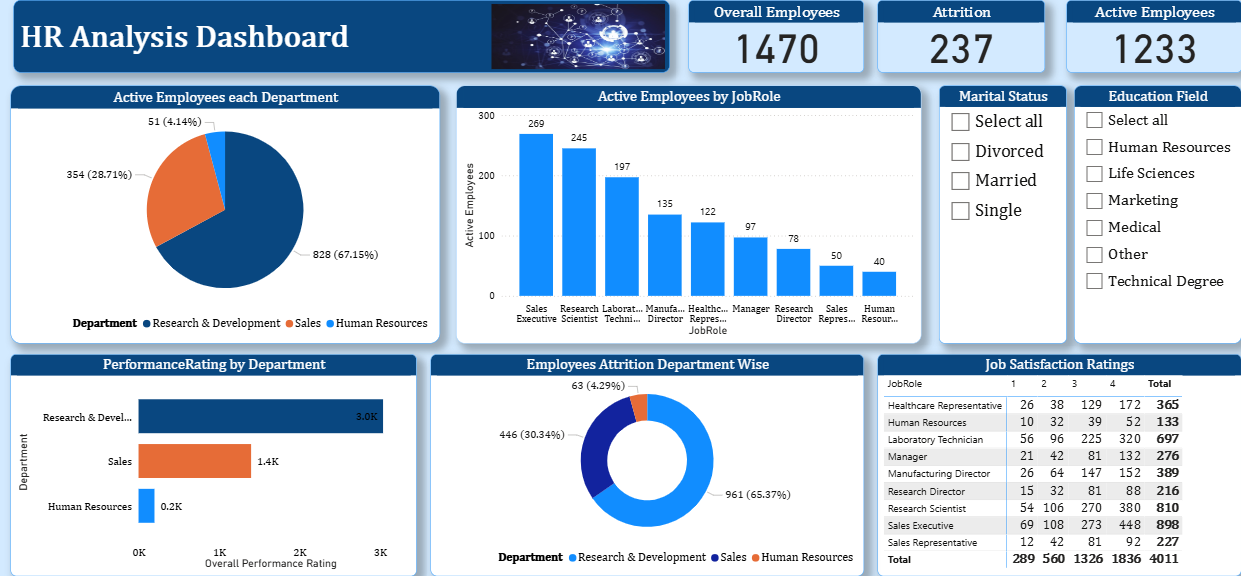

This screenshot's page, from the dashboard's own definition file:
{"tool":"powerbi","page":{"name":"Page 1","canvas":[1700,800],"ordinal":0},"visuals":[{"type":"card","title":"Overall Employees","fields":{"Values":["Sum(HR_Project_Power BI.EmployeeCount)"]},"box":[931.3,12.9,235.6,97.5],"z":0},{"type":"card","title":"Attrition","fields":{"Values":["Sum(HR_Project_Power BI.Attrition Count)"]},"box":[1185.3,12.9,224.5,97.5],"z":1000},{"type":"card","title":"Active Employees","fields":{"Values":["Measure.Active Employees"]},"box":[1437.5,12.9,235.6,97.5],"z":2000},{"type":"pieChart","title":"Active Employees each Department","fields":{"Category":["HR_Project_Power BI.Department"],"Y":["Measure.Active Employees"]},"box":[22.1,127,576.1,346],"z":3000},{"type":"columnChart","fields":{"Y":["Measure.Active Employees"],"Category":["HR_Project_Power BI.JobRole"]},"box":[618.4,127,623.9,346],"z":4000},{"type":"clusteredBarChart","title":" PerformanceRating by Department","fields":{"Category":["HR_Project_Power BI.Department"],"Y":["Sum(HR_Project_Power BI.PerformanceRating)"]},"box":[22.1,485.9,544.8,298.2],"z":5000},{"type":"pivotTable","title":"Job Satisfaction Ratings","fields":{"Rows":["HR_Project_Power BI.JobRole"],"Columns":["HR_Project_Power BI.JobSatisfaction"],"Values":["Sum(HR_Project_Power BI.JobSatisfaction)"]},"box":[1185.3,485.9,487.7,298.2],"z":6000},{"type":"donutChart","title":" Employees  Attrition Department Wise","fields":{"Y":["CountNonNull(HR_Project_Power BI.Attrition)"],"Category":["HR_Project_Power BI.Department"]},"box":[585.3,485.9,581.6,298.2],"z":7000},{"type":"slicer","title":"Marital Status","fields":{"Values":["HR_Project_Power BI.MaritalStatus"]},"box":[1266.3,127,171.2,346],"z":8000},{"type":"slicer","title":"Education Field","fields":{"Values":["HR_Project_Power BI.EducationField"]},"box":[1448.5,127,224.5,346],"z":9000},{"type":"textbox","box":[25.8,12.9,879.8,97.5],"z":10000},{"type":"image","box":[662.6,12.9,243,97.5],"z":11000}]}

Visuals, with their boxes in screenshot pixels (x1, y1, x2, y2), scaled from the page's 1700x800 canvas onto the 1241x576 screenshot:
"Overall Employees" card: 680,9,852,79
"Attrition" card: 865,9,1029,79
"Active Employees" card: 1049,9,1221,79
"Active Employees each Department" pieChart: 16,91,437,341
columnChart - Measure.Active Employees x HR_Project_Power BI.JobRole: 451,91,907,341
" PerformanceRating by Department" clusteredBarChart: 16,350,414,565
"Job Satisfaction Ratings" pivotTable: 865,350,1221,565
" Employees  Attrition Department Wise" donutChart: 427,350,852,565
"Marital Status" slicer: 924,91,1049,341
"Education Field" slicer: 1057,91,1221,341
textbox: 19,9,661,79
image: 484,9,661,79
